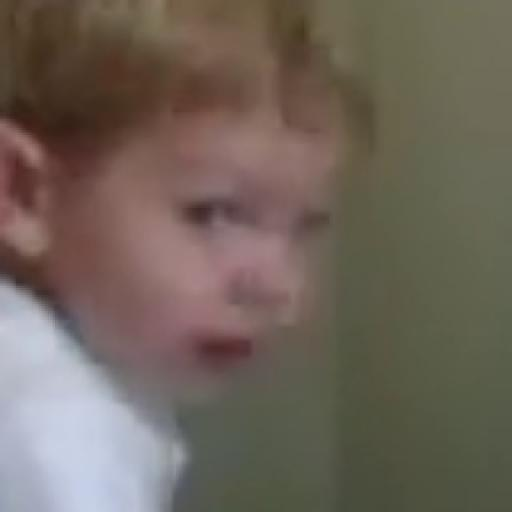Autism: (11, 5, 433, 429)
